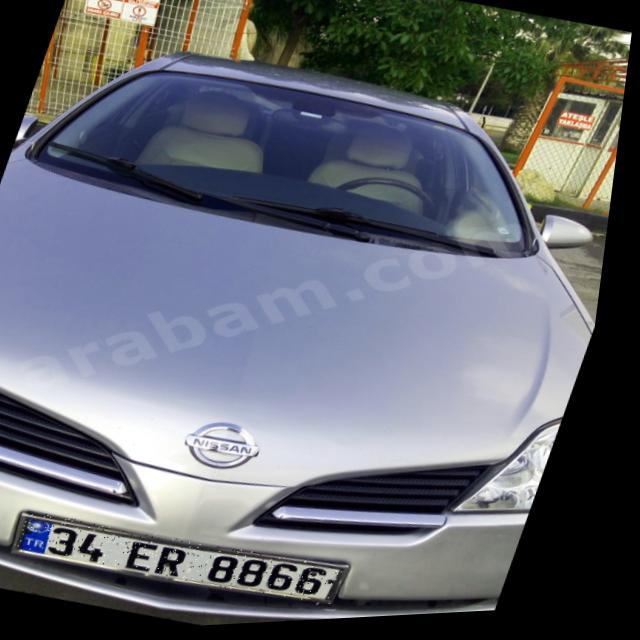license_plate: (21, 498, 366, 625)
